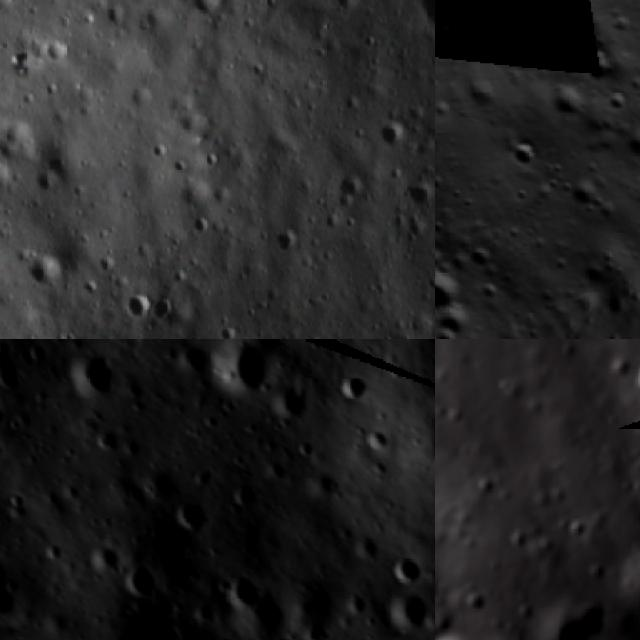crater: (200, 339, 280, 413), (60, 342, 129, 409), (379, 587, 435, 640), (382, 541, 434, 594), (19, 246, 71, 296), (535, 604, 604, 640), (166, 492, 212, 538), (114, 287, 160, 332), (561, 171, 606, 214), (327, 363, 369, 405), (87, 537, 128, 577), (124, 559, 164, 599), (505, 135, 543, 175), (578, 42, 616, 82), (358, 420, 397, 458), (349, 525, 387, 564), (149, 294, 186, 334), (435, 267, 465, 316), (225, 570, 262, 608), (333, 169, 364, 213), (556, 81, 592, 118), (618, 566, 640, 625), (376, 114, 408, 150), (266, 226, 301, 258), (188, 0, 232, 25), (1, 486, 32, 517), (40, 38, 72, 67), (290, 434, 320, 464), (186, 213, 214, 244), (623, 353, 640, 404), (39, 536, 67, 564), (33, 168, 57, 200), (622, 124, 640, 166), (405, 184, 435, 209), (607, 92, 632, 118), (358, 32, 380, 58), (148, 136, 169, 163), (0, 159, 14, 199), (98, 7, 120, 30), (212, 322, 241, 339), (170, 160, 188, 182), (248, 61, 266, 83), (0, 395, 9, 438), (205, 149, 218, 173), (261, 0, 281, 14)
